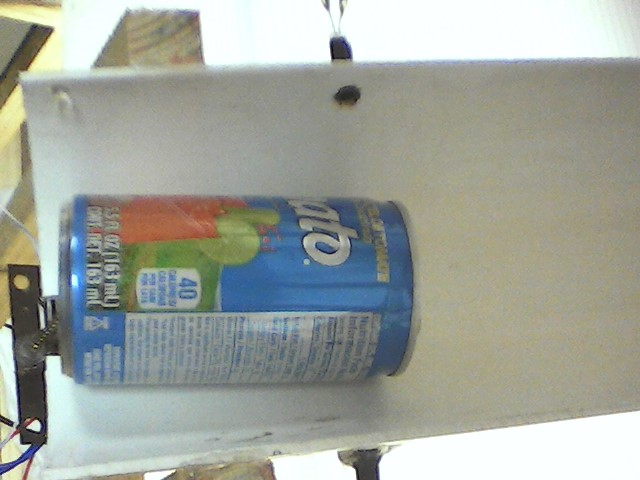lata: (55, 188, 426, 390)
